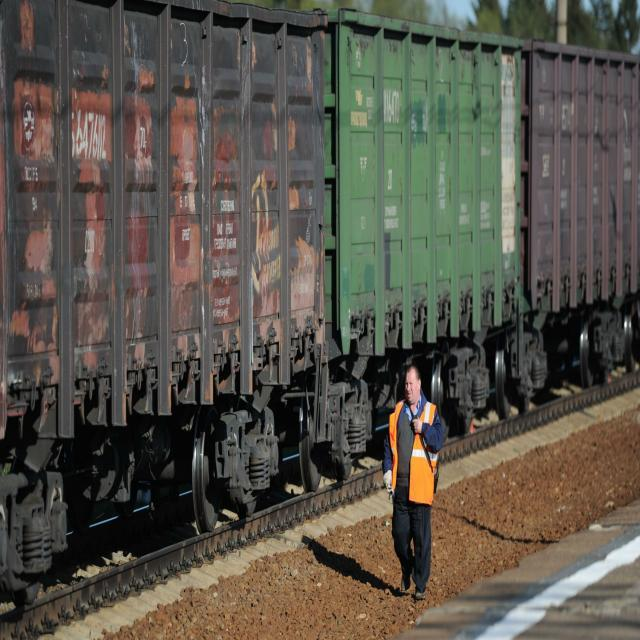wagon: (66, 100, 110, 165), (382, 86, 403, 126), (558, 98, 572, 132)
